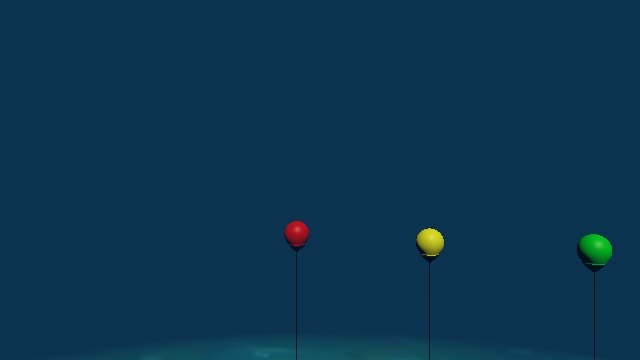buoy_green: (575, 229, 615, 274)
buoy_red: (284, 219, 310, 251)
